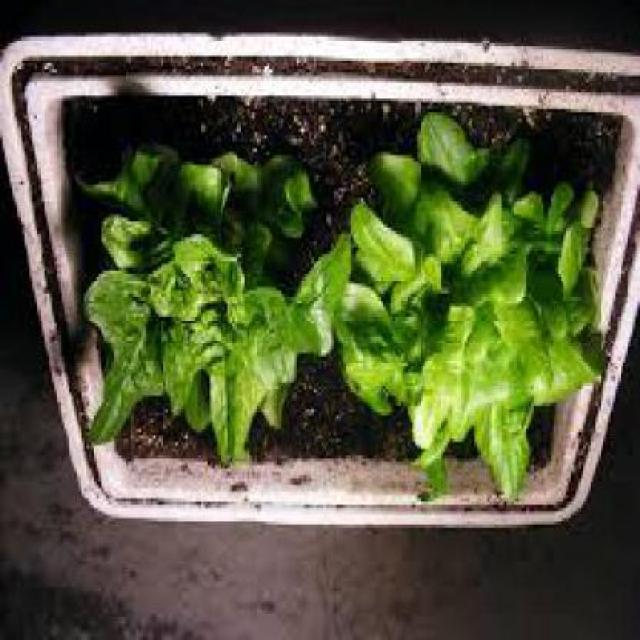BIODEGRADABLE: (334, 119, 603, 501), (72, 146, 348, 468)
